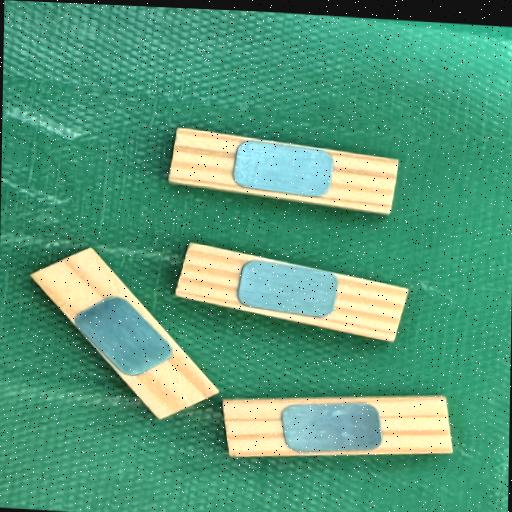objects: (30, 234, 219, 434), (175, 241, 410, 345), (168, 127, 399, 216), (222, 396, 453, 457)
